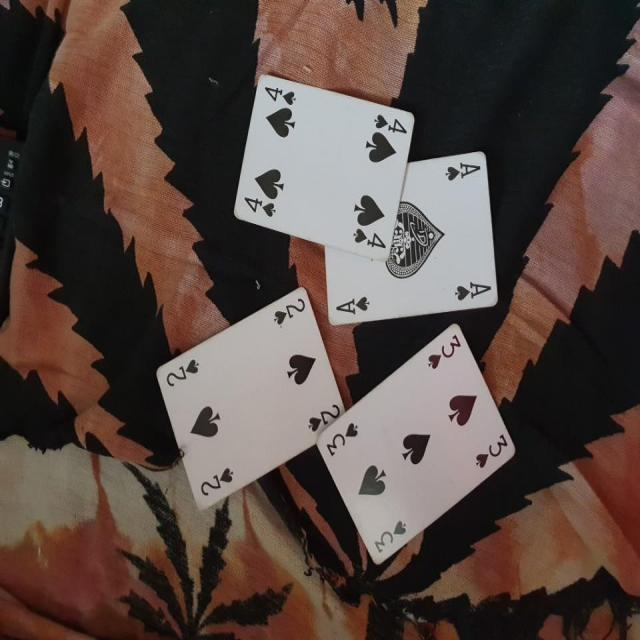2 Spades: (160, 277, 348, 508)
3 Spades: (314, 318, 516, 566)
4 Spades: (232, 71, 419, 265)
A Spades: (322, 149, 495, 323)
